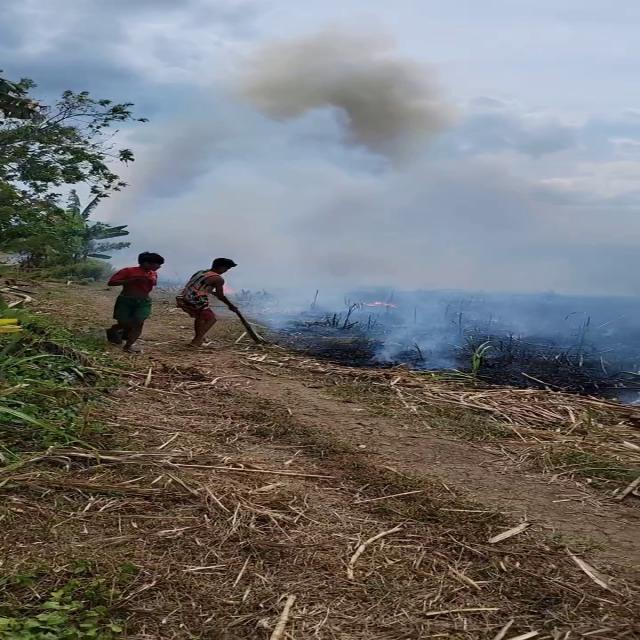Smoke: (90, 8, 618, 358)
